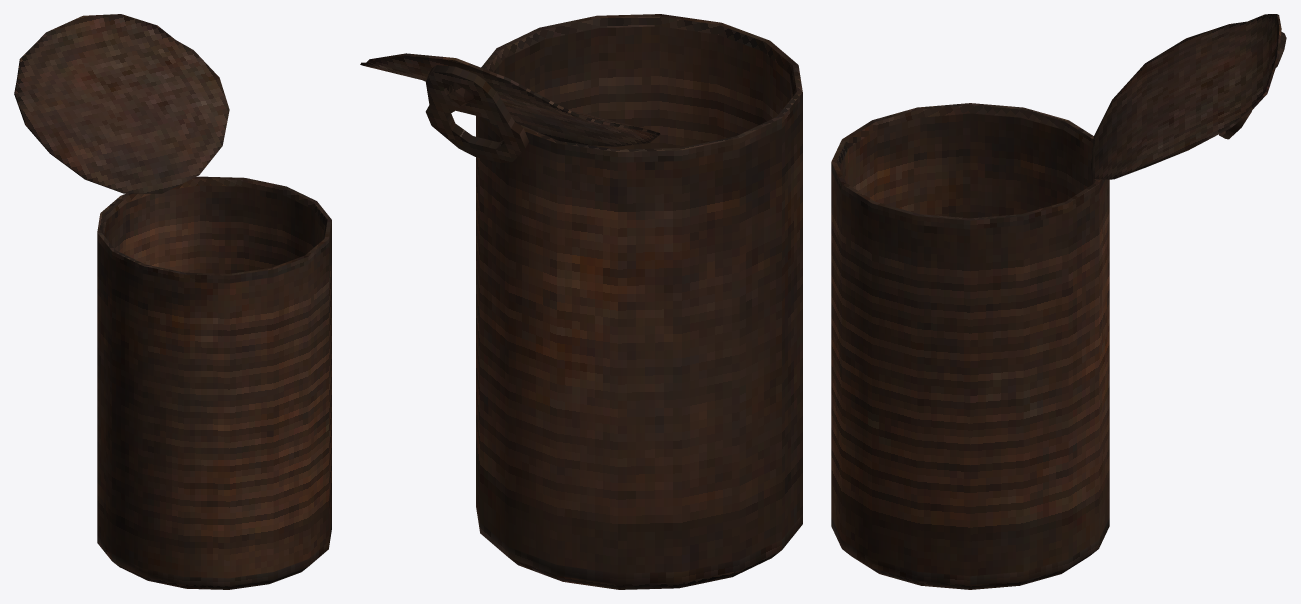
File: tin_can_mp_1_rusty.glb
3 views of the same model, side by side, from view 1: azimuth 30°, elevation 25°; view 2: azimuth 150°, elevation 25°; view 3: azimuth 270°, elevation 25° (orthographic). The views are drawn at different scales.
Visible parts, largest first — view 1: tin_can_mp_1_rusty; view 2: tin_can_mp_1_rusty; view 3: tin_can_mp_1_rusty.
Part boxes in pixels (<box>): tin_can_mp_1_rusty: <box>14,14,331,589</box>; tin_can_mp_1_rusty: <box>360,14,802,589</box>; tin_can_mp_1_rusty: <box>831,14,1286,589</box>.
Bounding box in the file's own units: 0.112 × 0.2256 × 0.1833.
1 material, 1 textured.
